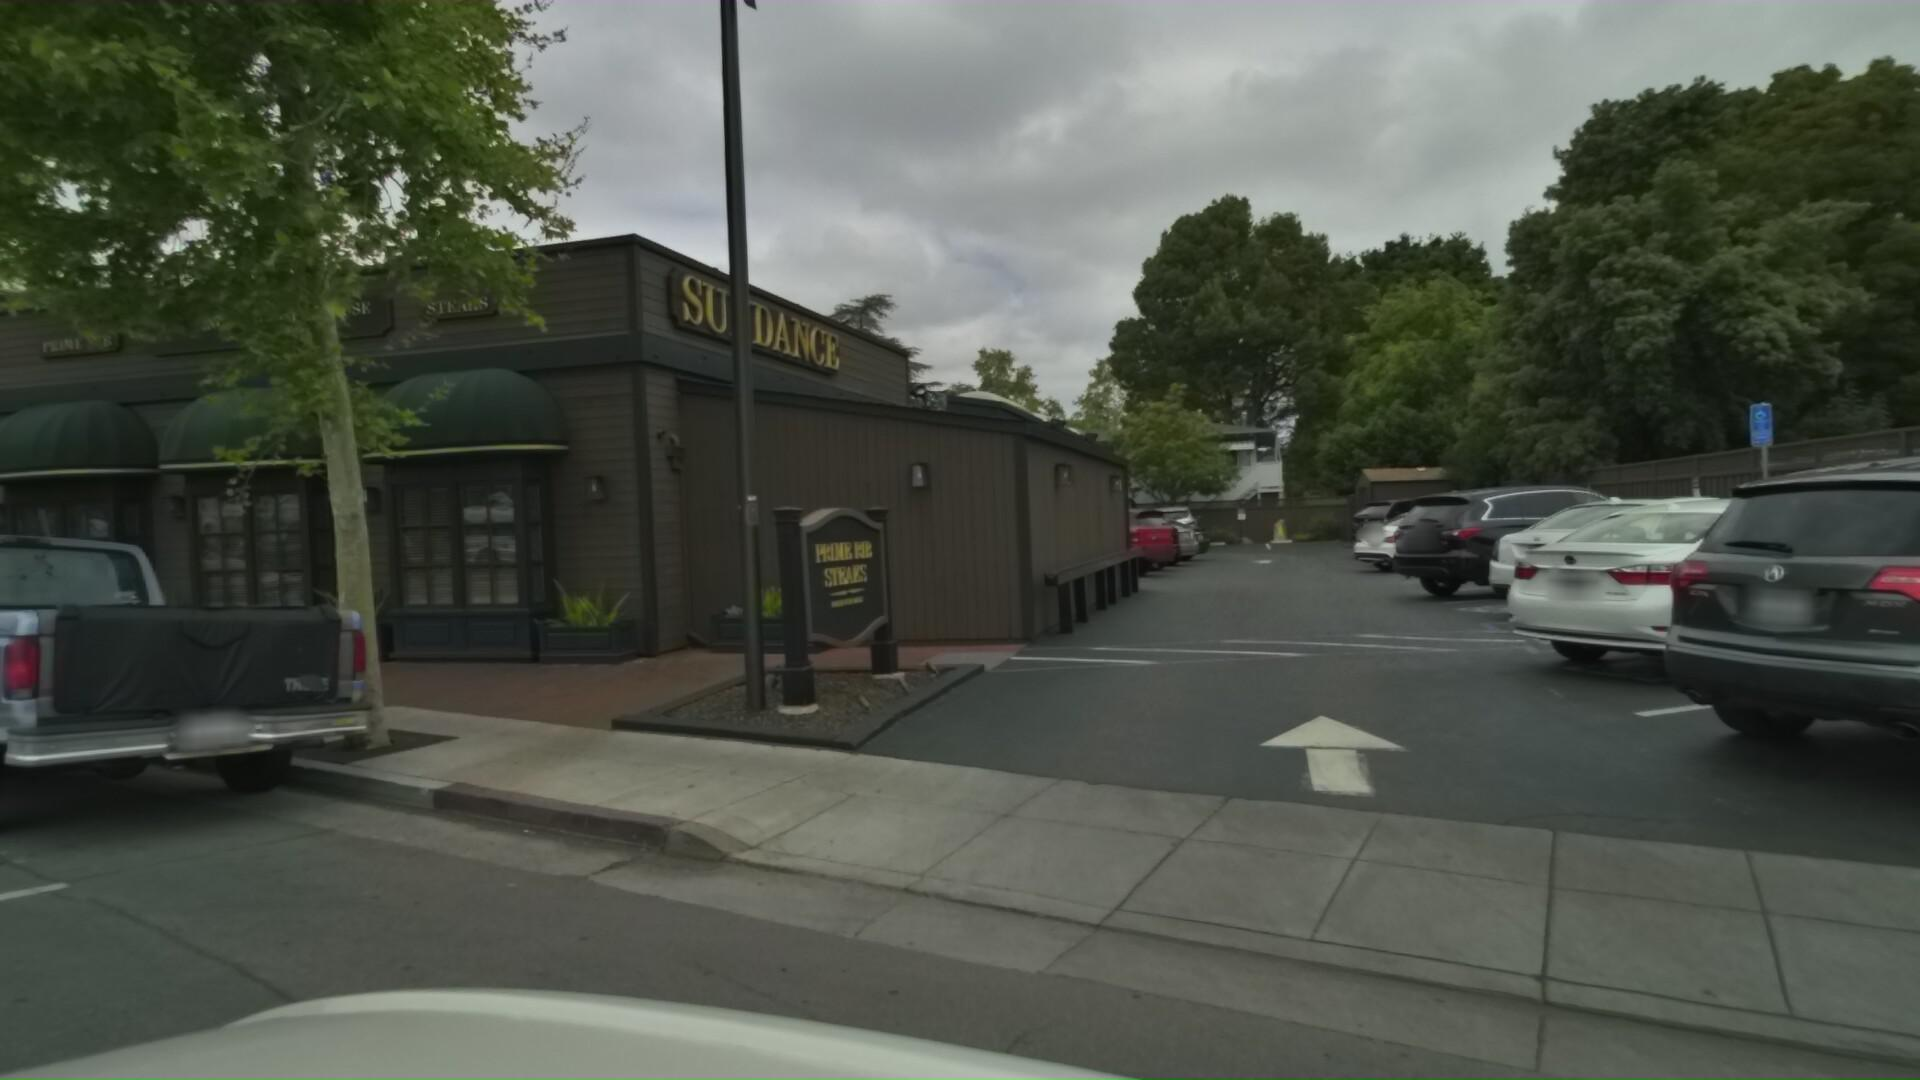car: (0, 506, 465, 934), (1675, 410, 1920, 878), (1527, 473, 1920, 705), (1498, 479, 1912, 636)
